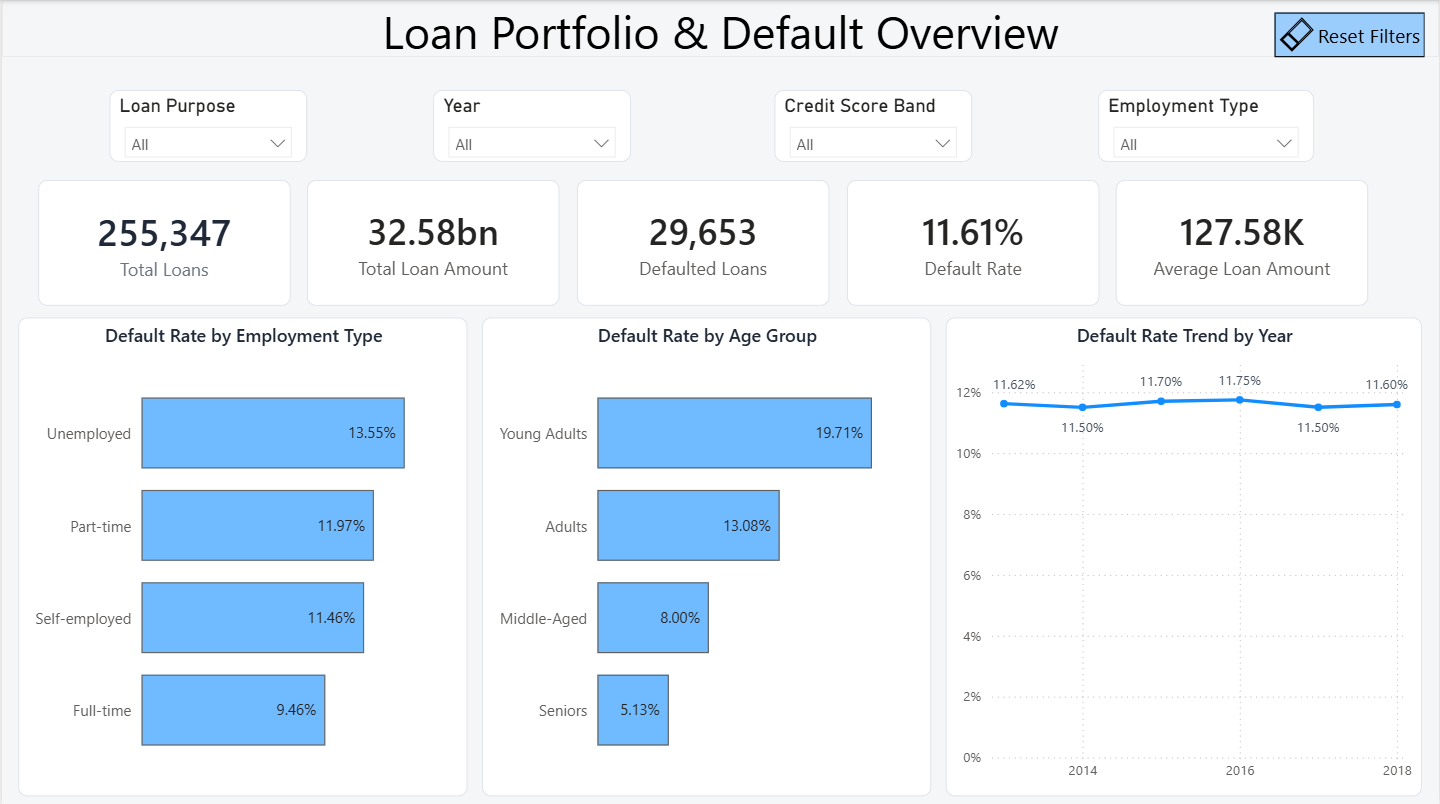

What the dashboard file says about the page in this screenshot:
{"tool":"powerbi","page":{"name":"Executive Overview","canvas":[1280,720],"ordinal":0},"visuals":[{"type":"shape","title":"Loan Portfolio & Default Overview","box":[0,0,1280,50.7],"z":0},{"type":"slicer","title":"Year","fields":{"Values":["Date Table.Year"]},"box":[384,80,176,64],"z":1000},{"type":"slicer","title":"Employment Type","fields":{"Values":["Loan_default.EmploymentType"]},"box":[976,80,192,64],"z":2000},{"type":"slicer","title":"Loan Purpose","fields":{"Values":["Loan_default.LoanPurpose"]},"box":[96,80,176,64],"z":3000},{"type":"slicer","title":"Credit Score Band","fields":{"Values":["Loan_default.Credit Score Bins"]},"box":[688,80,176,64],"z":4000},{"type":"cardVisual","fields":{"Data":["_Measures.Default Rate %"]},"box":[752,160,225,112],"z":5000},{"type":"cardVisual","fields":{"Data":["_Measures.Average Loan Amount"]},"box":[992,160,225,112],"z":6000},{"type":"cardVisual","fields":{"Data":["_Measures.Defaulted Loans"]},"box":[512,160,225,112],"z":7000},{"type":"cardVisual","fields":{"Data":["_Measures.Total Loans"]},"box":[32,160,225,112],"z":8000},{"type":"cardVisual","fields":{"Data":["_Measures.Total Loan Amount"]},"box":[272,160,225,112],"z":9000},{"type":"clusteredBarChart","title":"Default Rate by Employment Type","fields":{"Category":["Loan_default.EmploymentType"],"Y":["_Measures.Default Rate %"]},"box":[15,283,400,426],"z":10000},{"type":"clusteredBarChart","title":"Default Rate by Age Group","fields":{"Category":["Loan_default.Age Groups"],"Y":["_Measures.Default Rate %"]},"box":[427,283,400,426],"z":11000},{"type":"lineChart","title":"Default Rate Trend by Year","fields":{"Category":["Date Table.Year"],"Y":["_Measures.Default Rate %"]},"box":[840,283,424,426],"z":12000},{"type":"actionButton","box":[1132.8,10.9,133.9,39.8],"z":13000}]}

Visuals, with their boxes in screenshot pixels (x1, y1, x2, y2), scaled from the page's 1280x720 canvas onto the 1440x804 screenshot:
"Loan Portfolio & Default Overview" shape: locate(0, 0, 1439, 57)
"Year" slicer: locate(432, 89, 630, 161)
"Employment Type" slicer: locate(1098, 89, 1314, 161)
"Loan Purpose" slicer: locate(108, 89, 306, 161)
"Credit Score Band" slicer: locate(774, 89, 972, 161)
cardVisual - _Measures.Default Rate %: locate(846, 179, 1099, 304)
cardVisual - _Measures.Average Loan Amount: locate(1116, 179, 1369, 304)
cardVisual - _Measures.Defaulted Loans: locate(576, 179, 829, 304)
cardVisual - _Measures.Total Loans: locate(36, 179, 289, 304)
cardVisual - _Measures.Total Loan Amount: locate(306, 179, 559, 304)
"Default Rate by Employment Type" clusteredBarChart: locate(17, 316, 467, 792)
"Default Rate by Age Group" clusteredBarChart: locate(480, 316, 930, 792)
"Default Rate Trend by Year" lineChart: locate(945, 316, 1422, 792)
actionButton: locate(1274, 12, 1425, 57)
